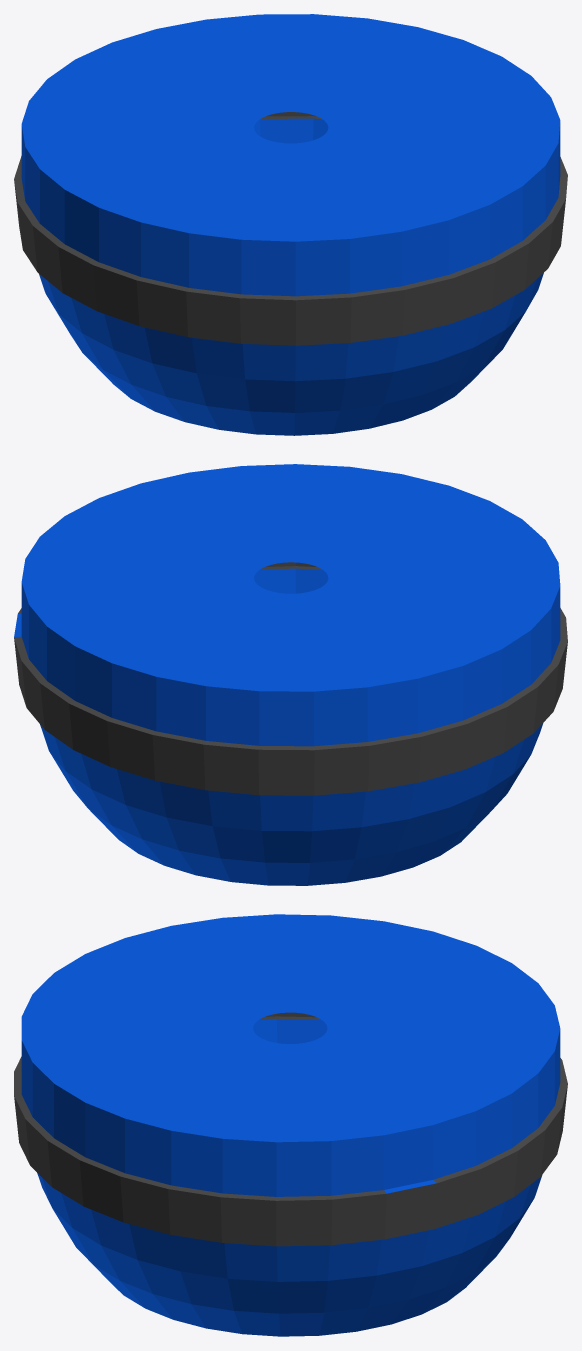
3 views of the same model, one above another, from view 1: azimuth 30°, elevation 25°; view 2: azimuth 150°, elevation 25°; view 3: azimuth 270°, elevation 25° (orthographic).
Parts seen in each view (by area): view 1: Base; view 2: Base; view 3: Base.
Boxes of the visible parts, x1=… form: Base: x1=14, y1=14, x2=567, y2=435; Base: x1=14, y1=464, x2=567, y2=885; Base: x1=14, y1=914, x2=567, y2=1336.
Bounding box in the file's own units: 205 × 137 × 205.
